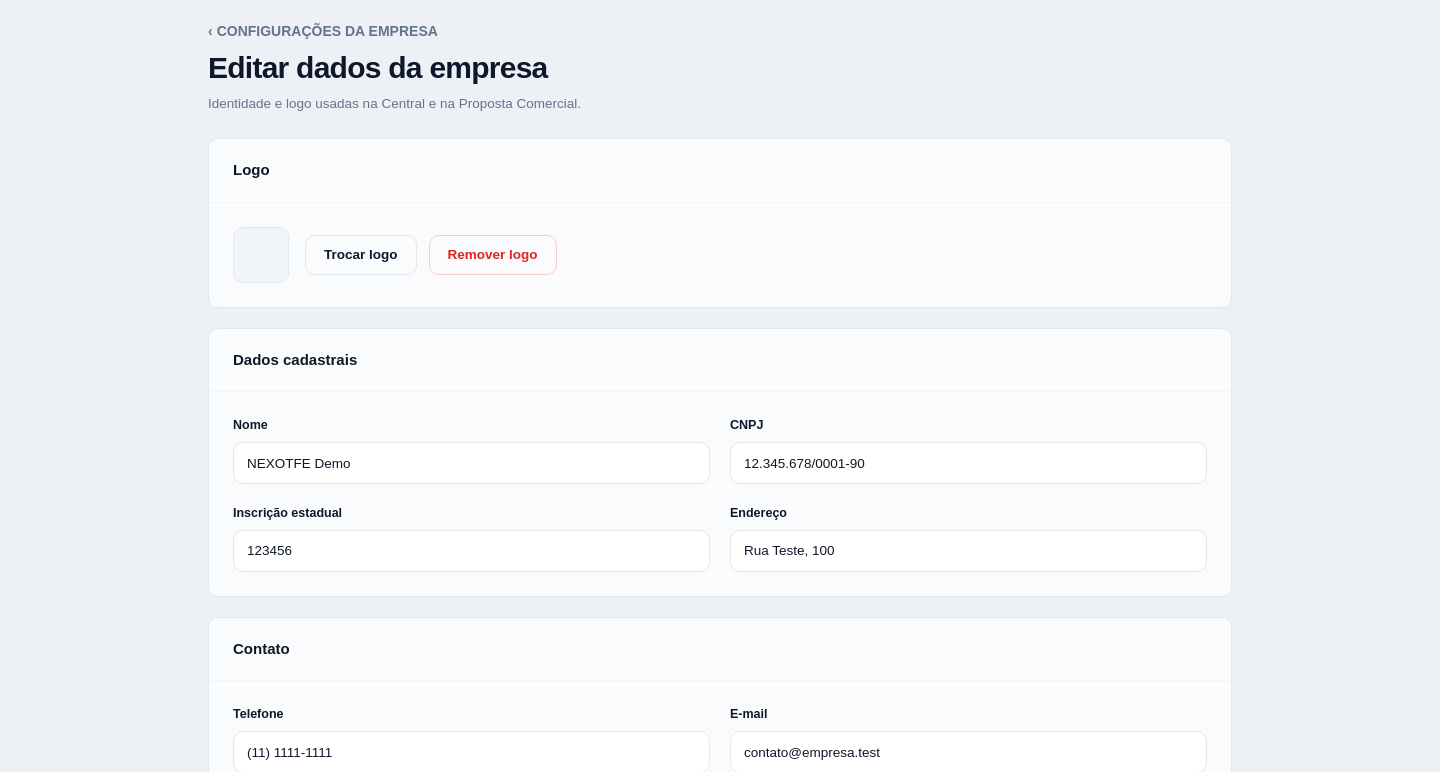
Test: configuracoes/empresa/editar - logo (operação independente dos dados) › remoção com falha: mostra erro da logo, mantém a logo exibida
The image size is (1440, 772).
Click the button "Remover logo" at point(492, 255), box [428, 235, 556, 275]
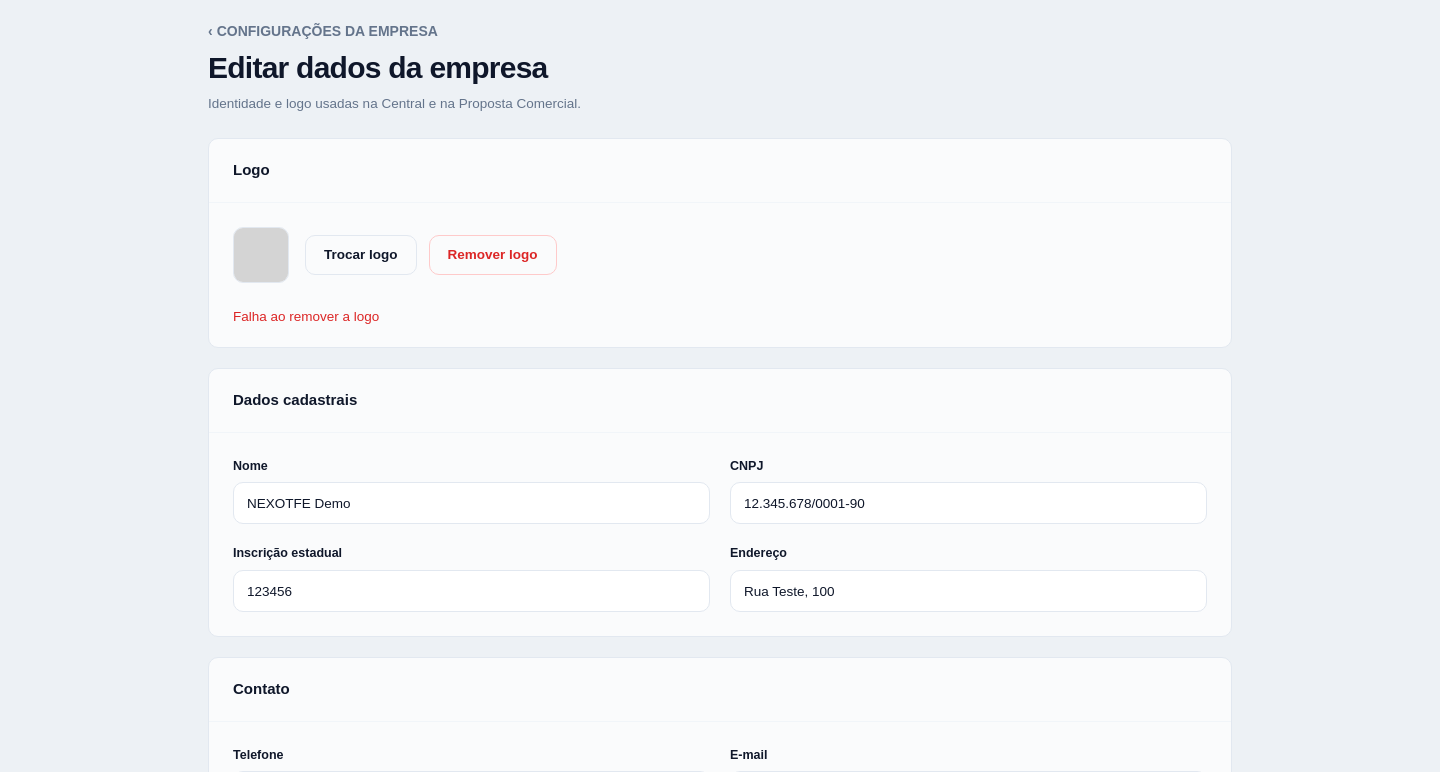
Now the text "Falha ao remover a logo" is shown, box [233, 309, 379, 324]
